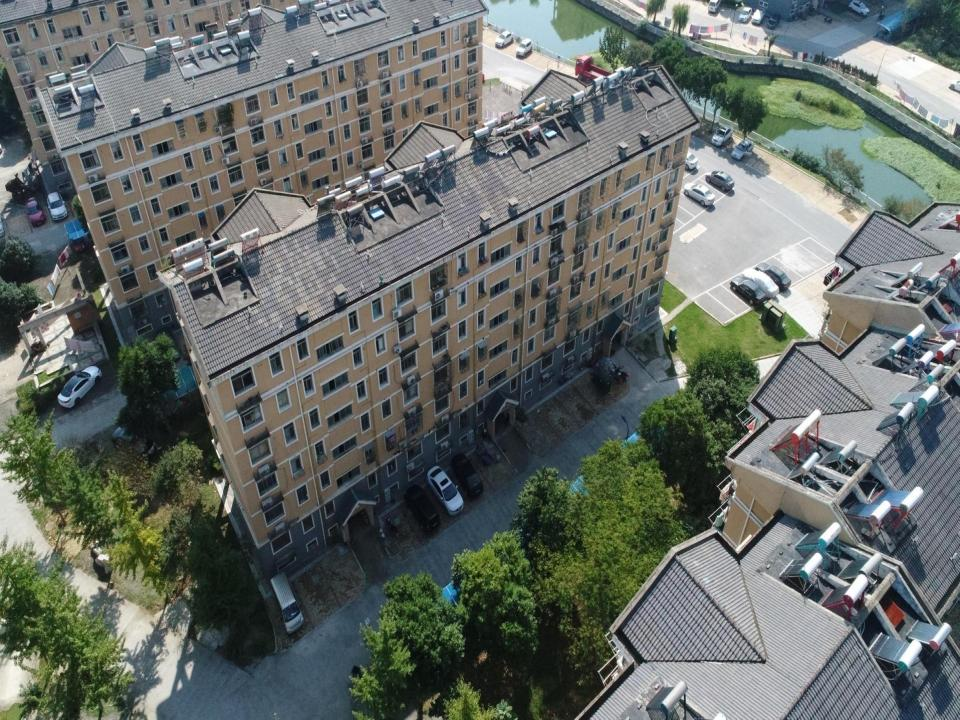car: (57, 364, 102, 408), (426, 464, 464, 514), (403, 484, 440, 532), (111, 425, 156, 462), (451, 452, 483, 498), (741, 268, 780, 298), (730, 275, 766, 306), (756, 262, 791, 292), (683, 182, 715, 206), (705, 169, 734, 191), (24, 197, 46, 226), (47, 191, 68, 221), (675, 148, 698, 171), (731, 138, 754, 160), (711, 124, 733, 146), (848, 0, 870, 17), (515, 38, 532, 58), (494, 30, 514, 47), (751, 7, 765, 26), (738, 6, 752, 23), (767, 13, 780, 30)
truck: (575, 54, 623, 84)
van: (270, 570, 304, 634), (707, 0, 721, 13)
